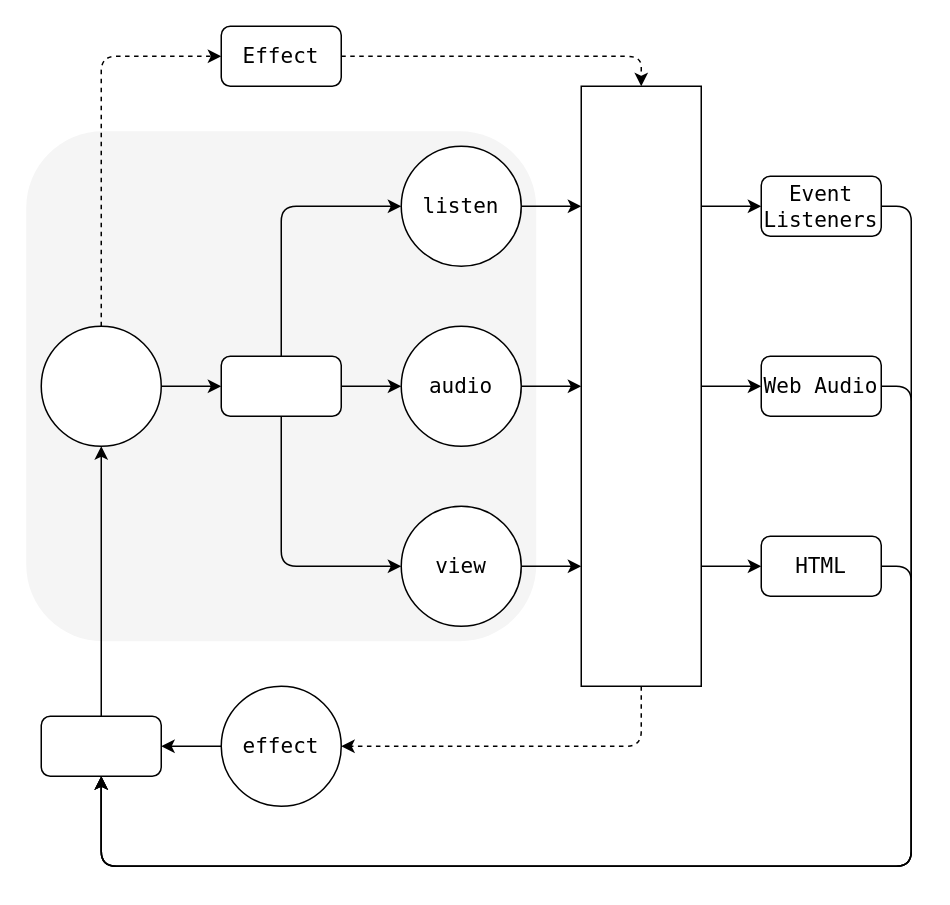
The diagram is 950 pixels wide and 905 high, and some of its shapes have lost their labels. The centre of each missing label's shape, as x and y in pixels:
Action: (x=100, y=745)
Model: (x=280, y=385)
runtime: (x=640, y=385)
update: (x=100, y=385)
